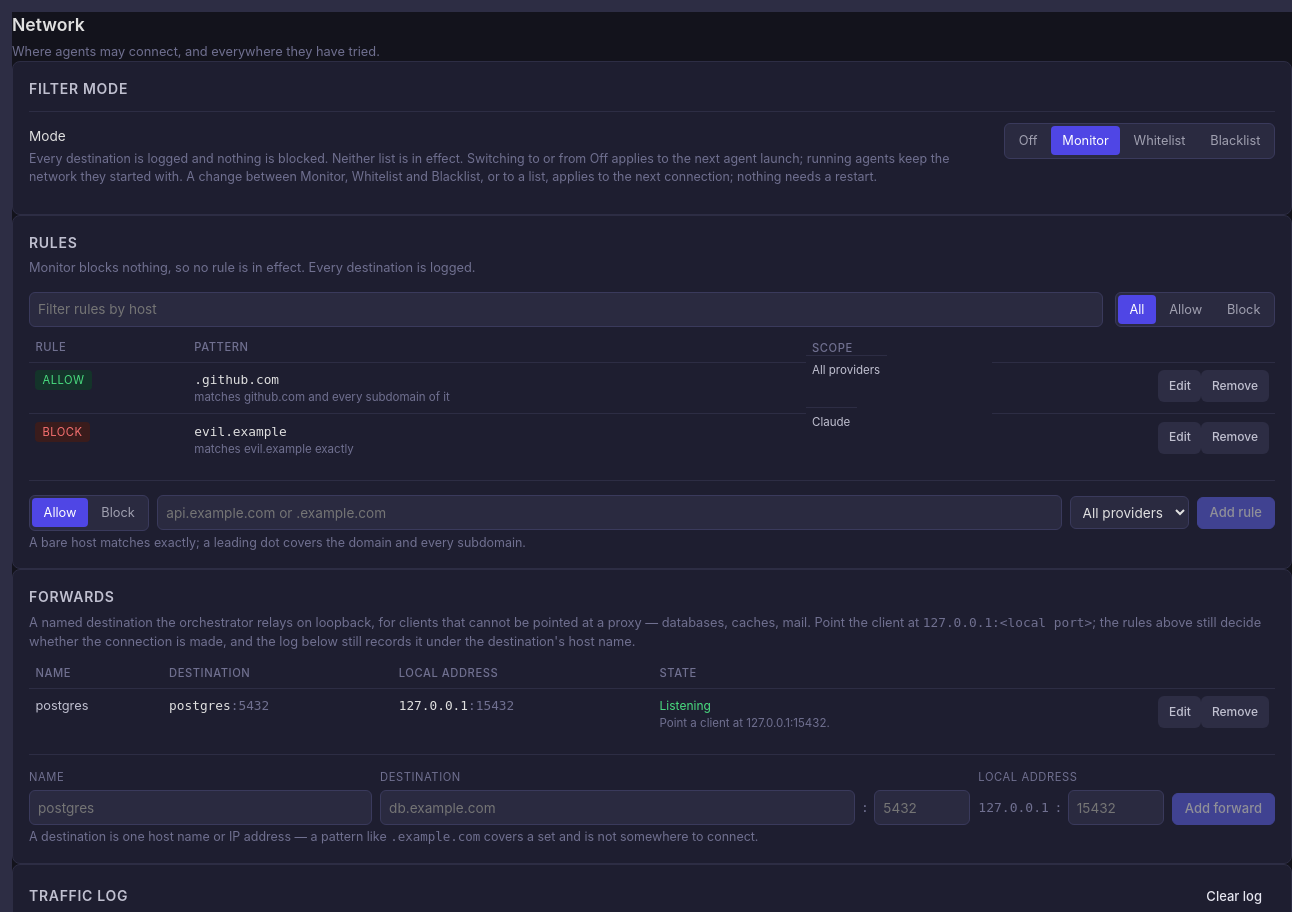
Network settings › filters the rules
The image size is (1292, 912).
Expected: the text "evil.example" is shown, [194, 424, 287, 439]
Type "github" into the search field labelled "Filter rules" at (566, 310), box [29, 292, 1103, 327]
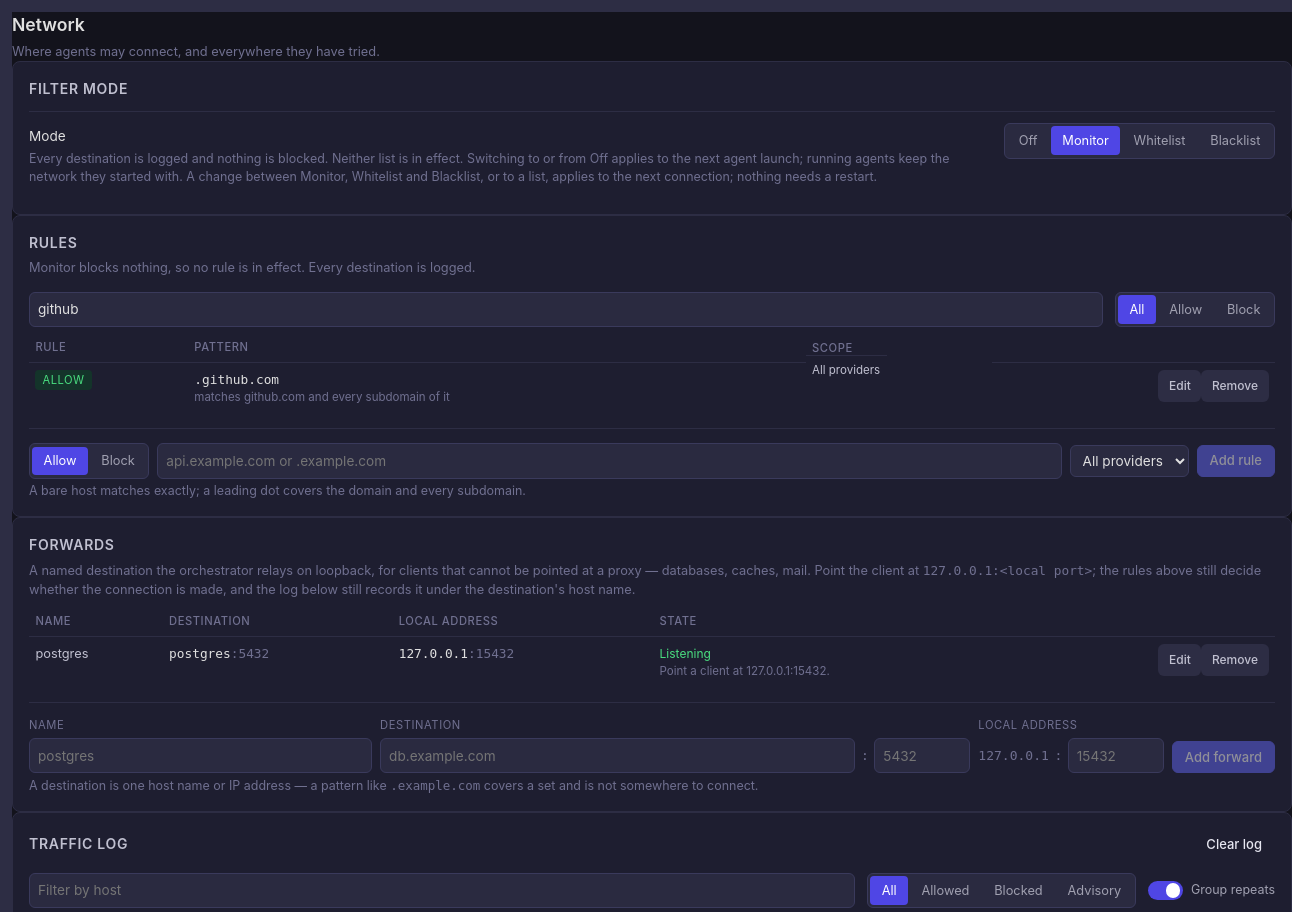
Expected: the text ".github.com" is shown, [194, 372, 279, 387]
Expected: the text "evil.example" is gone
